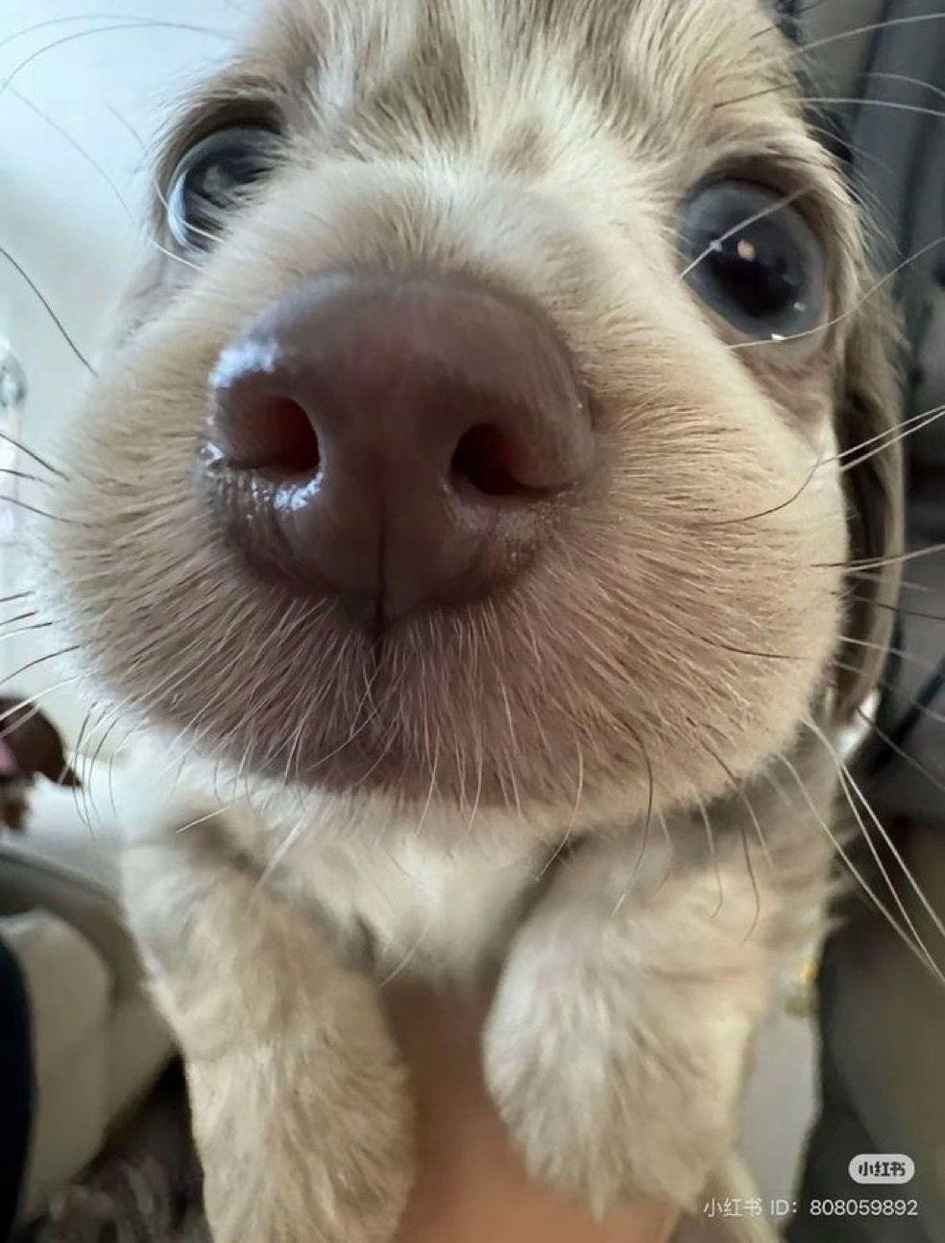puppy-dog: (47, 0, 909, 1243)
